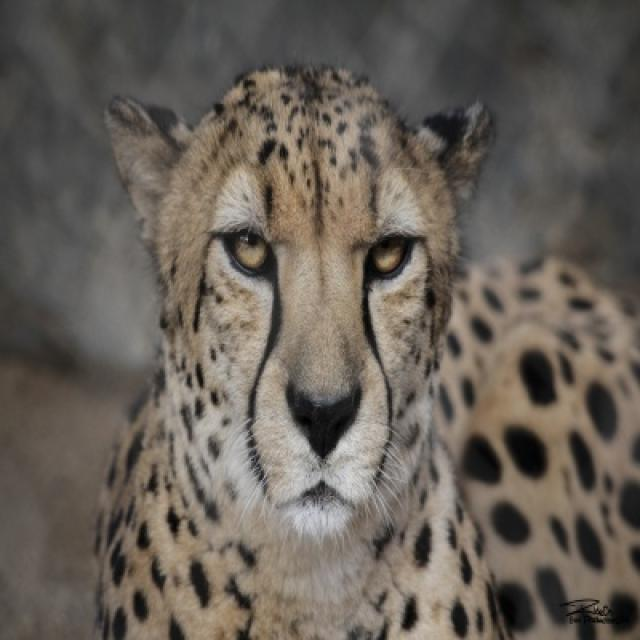Cheetah: (90, 64, 638, 638)
